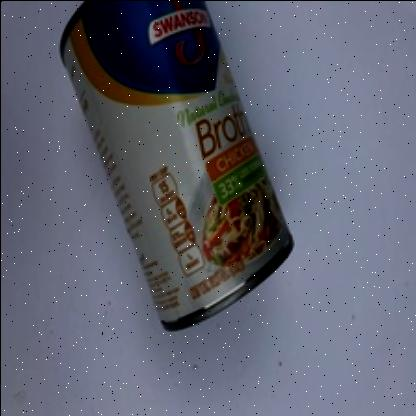Can: (59, 1, 291, 332)
